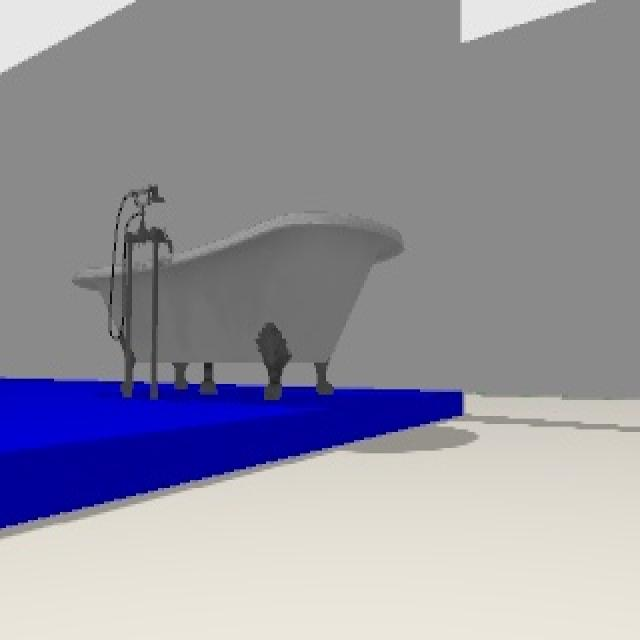bathtub: (74, 175, 404, 397)
